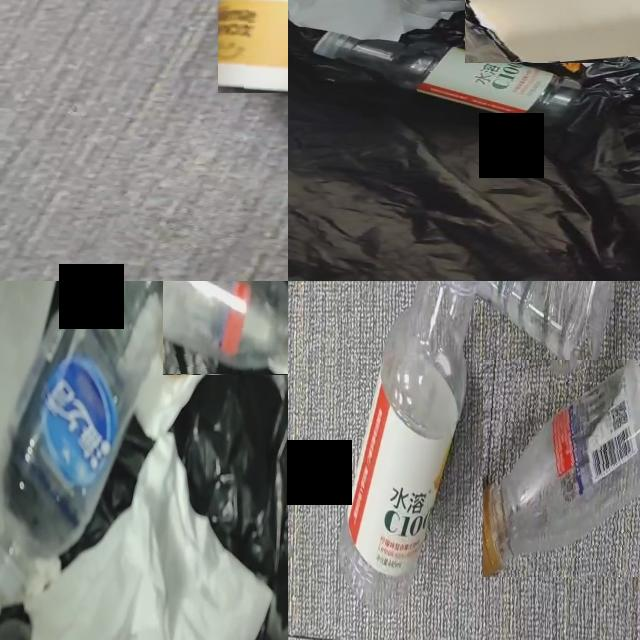bottle: (0, 281, 185, 605), (338, 281, 478, 610), (483, 362, 640, 577), (315, 33, 581, 126), (163, 281, 288, 371)
carton: (471, 0, 640, 62)
dixie_cup: (218, 0, 288, 93)
paper: (27, 434, 272, 640), (120, 294, 213, 440), (288, 0, 406, 40), (498, 46, 605, 66), (24, 557, 61, 604)
